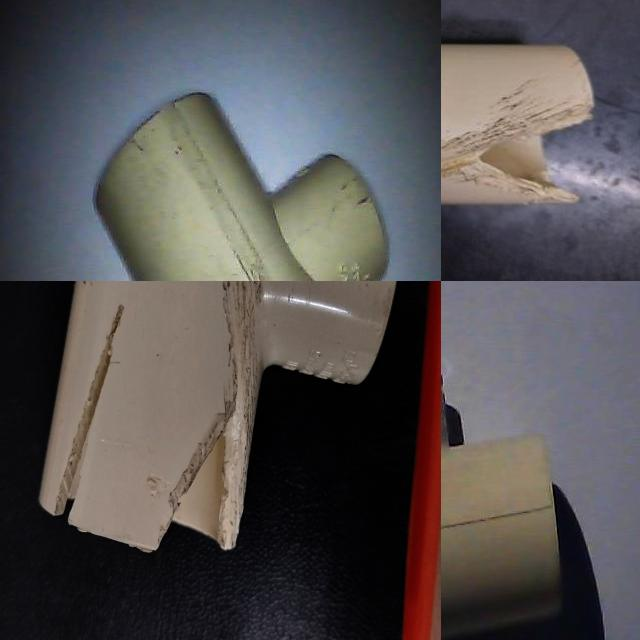Defective: (0, 390, 246, 507), (441, 76, 616, 228), (130, 427, 255, 532), (62, 574, 234, 640), (473, 110, 588, 190)
T Joint: (0, 281, 266, 640), (94, 93, 390, 281), (441, 369, 568, 640), (441, 44, 595, 209)
